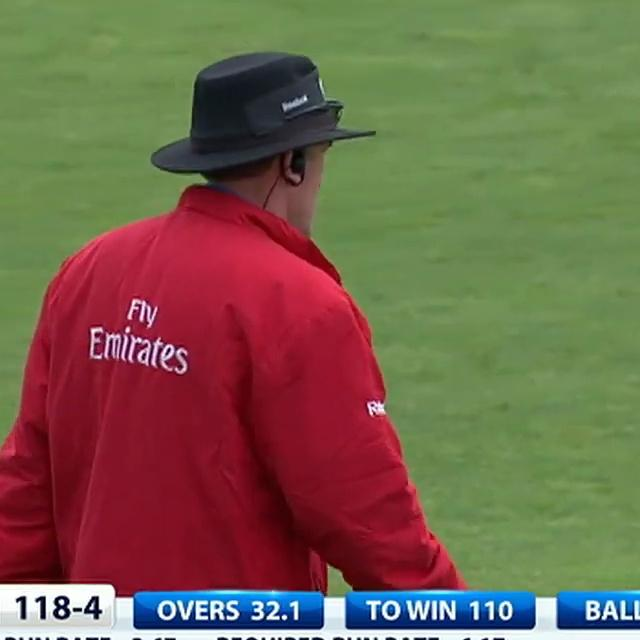umpire: (0, 14, 494, 592)
